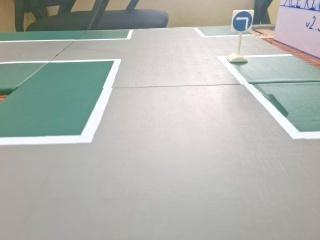left: (232, 9, 254, 35)
